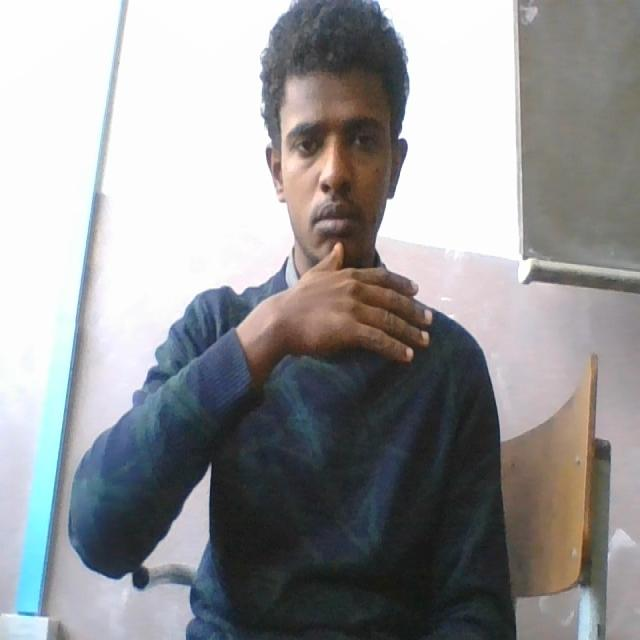enat: (260, 216, 440, 372)
